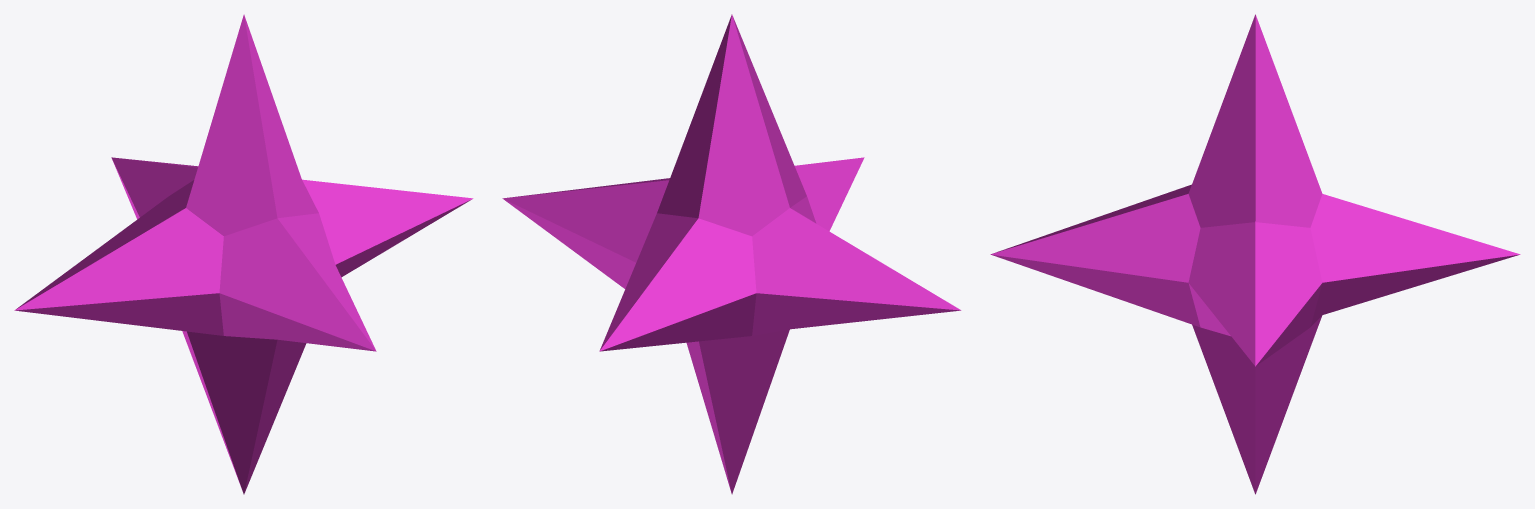
Rendered from Basic Wishes.fbx.
The picture shows the model from 3 angles, left to right: view 1: azimuth 30°, elevation 25°; view 2: azimuth 150°, elevation 25°; view 3: azimuth 270°, elevation 25°; orthographic projection.
Visible parts, largest first — view 1: Wish Basic; view 2: Wish Basic; view 3: Wish Basic.
Boxes of the visible parts, left/top/right/bottom form: Wish Basic: left=14, top=14, right=473, bottom=494; Wish Basic: left=502, top=14, right=961, bottom=494; Wish Basic: left=990, top=14, right=1520, bottom=494.
Bounding box in the file's own units: 483 × 483 × 483.
